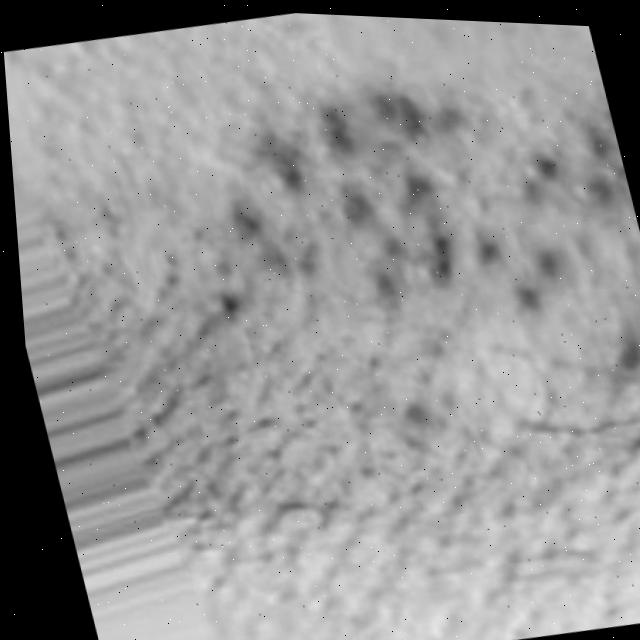Shingles: (155, 55, 640, 437)
